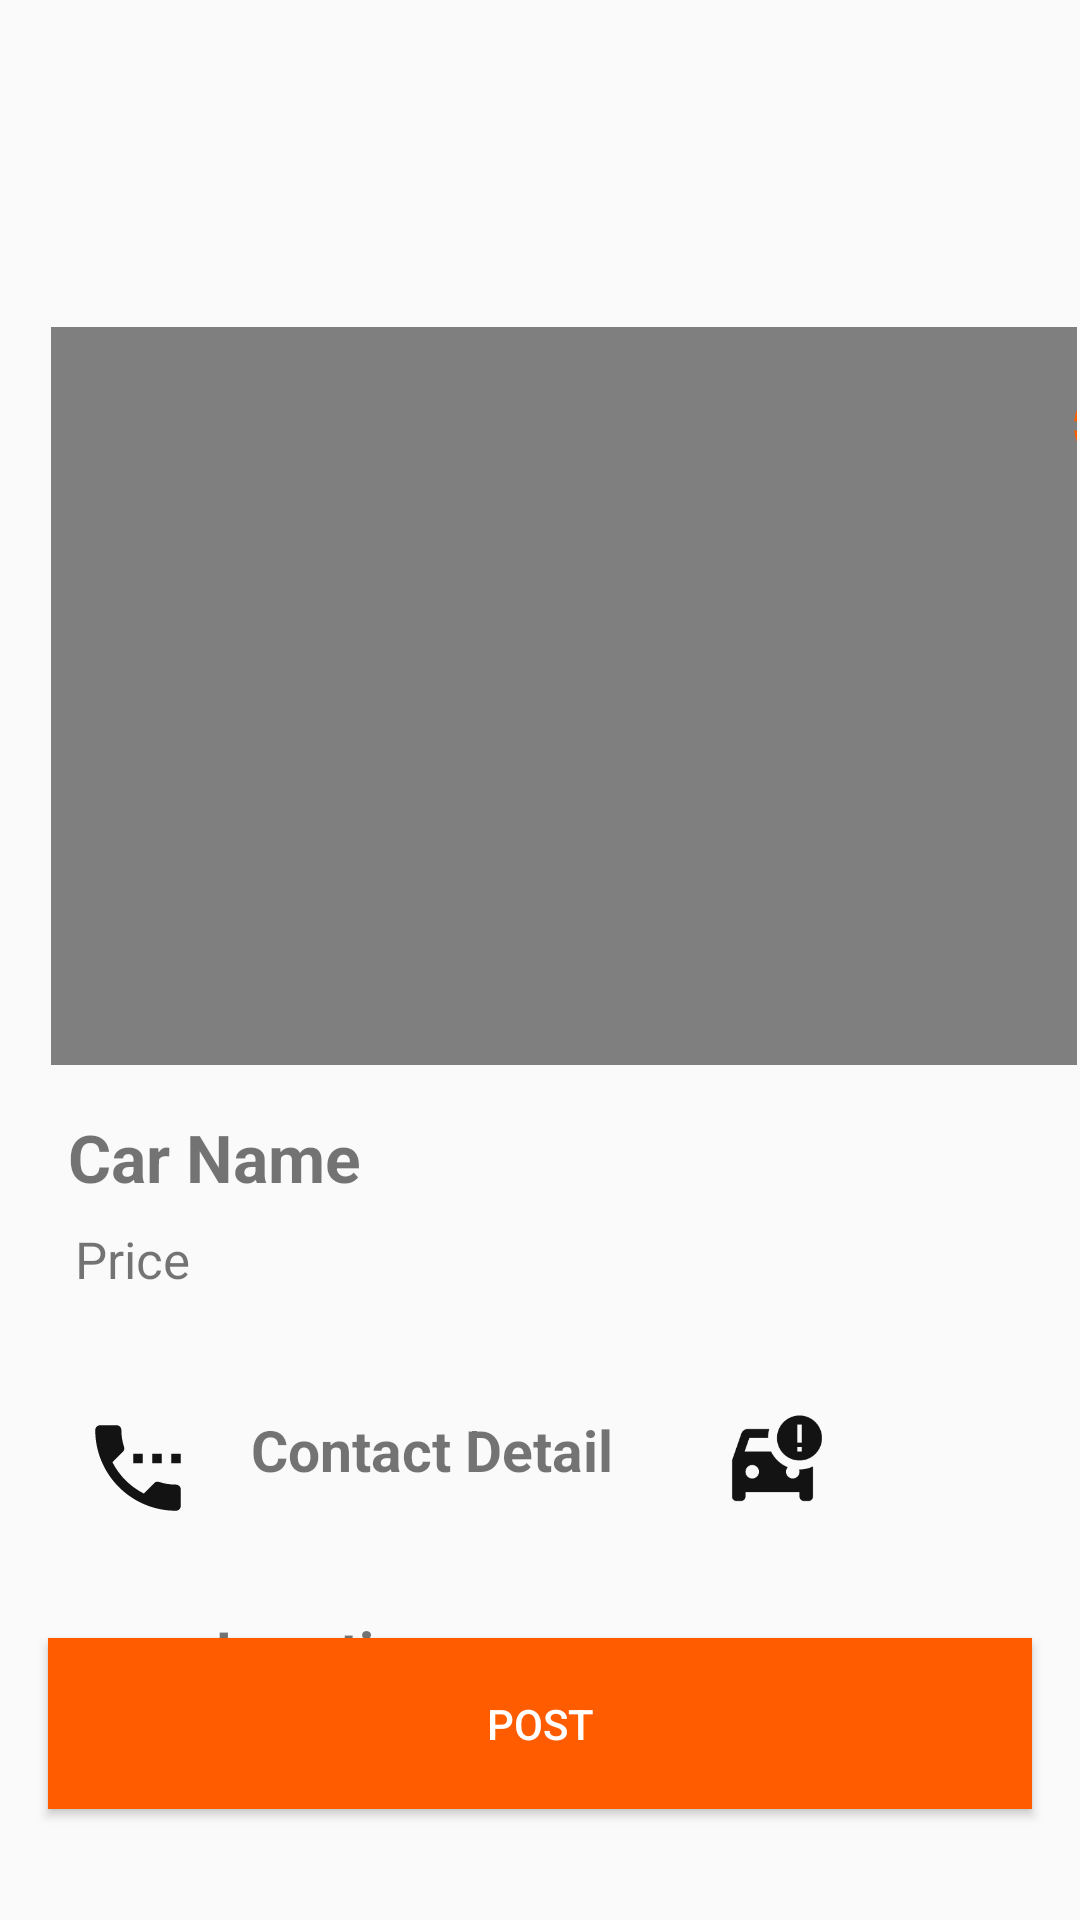

Locate icon controls on the screen. Image size 1080 × 1920, boxes as (left=x1, top=y1, right=x2, bottom=y2).
car crash: (left=732, top=1415, right=822, bottom=1501)
settings phone: (left=95, top=1425, right=181, bottom=1511)
